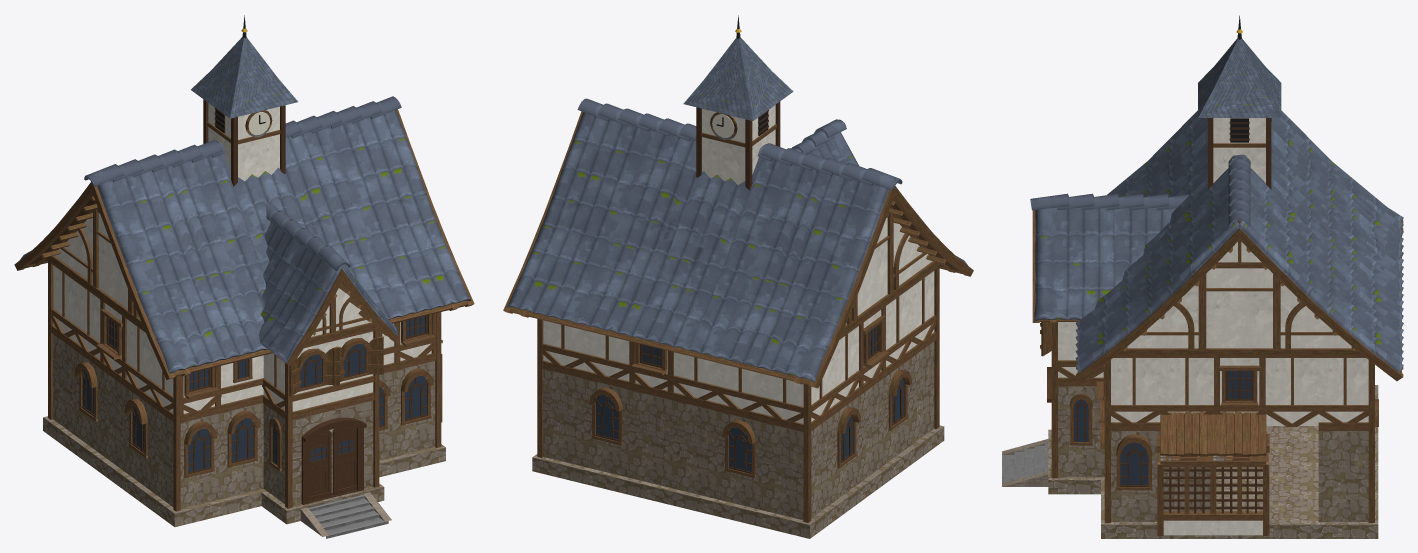
The model's file is library.glb.
3 views of the same model, side by side, from view 1: azimuth 30°, elevation 25°; view 2: azimuth 150°, elevation 25°; view 3: azimuth 270°, elevation 25° (orthographic). The views are drawn at different scales.
Parts seen in each view (by area): view 1: Roof_RoundTiles_8x10.088, Roof_RoundTiles_4x4.085, Plinth.001, Roof_Front_Brick8.089, TurretRoof.122, Wall_UnevenBrick_Door_Round.065, Wall_UnevenBrick_Window_Wide_Round.005, Stairs_Exterior_Straight.087, TurretBody.091, Wall_UnevenBrick_Window_Wide_Round.009, Wall_UnevenBrick_Window_Wide_Round.003, Wall_UnevenBrick_Straight.022 (+39 smaller); view 2: Roof_RoundTiles_8x10.088, Plinth.001, Roof_Front_Brick8.089, TurretRoof.122, Wall_UnevenBrick_Straight.015, Wall_UnevenBrick_Straight.014, Wall_UnevenBrick_Straight.011, Wall_UnevenBrick_Straight.018, Wall_UnevenBrick_Window_Wide_Round.012, Wall_UnevenBrick_Window_Wide_Round.016, TurretBody.091, Wall_UnevenBrick_Straight.022 (+24 smaller); view 3: Roof_RoundTiles_8x10.088, Roof_Front_Brick8.090, Roof_RoundTiles_4x4.085, Plinth.001, Wall_UnevenBrick_Straight.029, TurretRoof.122, Wall_Plaster_Straight+upper.059, Wall_Plaster_Straight+upper.060, Wall_Plaster_WoodGrid+upper.125, Wall_Plaster_Straight+upper.055, Wall_UnevenBrick_Window_Thin_Round.071, Wall_Plaster_WoodGrid+upper.126 (+18 smaller).
Boxes of the visible parts, <box> form: Roof_RoundTiles_8x10.088: <box>14,96,474,379</box>; Roof_RoundTiles_4x4.085: <box>258,204,398,366</box>; Plinth.001: <box>43,416,445,526</box>; Roof_Front_Brick8.089: <box>41,196,144,329</box>; TurretRoof.122: <box>191,37,297,118</box>; Wall_UnevenBrick_Door_Round.065: <box>292,392,374,505</box>; Wall_UnevenBrick_Window_Wide_Round.005: <box>220,394,264,499</box>; Stairs_Exterior_Straight.087: <box>300,492,391,538</box>; TurretBody.091: <box>208,103,279,181</box>; Wall_UnevenBrick_Window_Wide_Round.009: <box>394,353,436,456</box>; Wall_UnevenBrick_Window_Wide_Round.003: <box>180,405,221,508</box>; Wall_UnevenBrick_Straight.022: <box>100,361,126,472</box>; Roof_RoundTiles_8x10.088: <box>503,98,973,388</box>; Plinth.001: <box>532,425,944,538</box>; Roof_Front_Brick8.089: <box>840,200,946,336</box>; TurretRoof.122: <box>683,37,793,120</box>; Wall_UnevenBrick_Straight.015: <box>673,392,718,499</box>; Wall_UnevenBrick_Straight.014: <box>628,382,674,488</box>; Wall_UnevenBrick_Straight.011: <box>542,360,585,466</box>; Wall_UnevenBrick_Straight.018: <box>761,414,803,520</box>; Wall_UnevenBrick_Window_Wide_Round.012: <box>584,370,629,477</box>; Wall_UnevenBrick_Window_Wide_Round.016: <box>717,403,762,510</box>; TurretBody.091: <box>702,105,775,184</box>; Wall_UnevenBrick_Straight.022: <box>858,369,886,483</box>; Roof_RoundTiles_8x10.088: <box>1075,110,1403,381</box>; Roof_Front_Brick8.090: <box>1116,240,1363,355</box>; Roof_RoundTiles_4x4.085: <box>1030,193,1189,322</box>; Plinth.001: <box>1101,385,1378,538</box>; Wall_UnevenBrick_Straight.029: <box>1318,422,1368,521</box>; TurretRoof.122: <box>1198,38,1281,117</box>; Wall_Plaster_Straight+upper.059: <box>1266,356,1318,426</box>; Wall_Plaster_Straight+upper.060: <box>1318,356,1368,423</box>; Wall_Plaster_WoodGrid+upper.125: <box>1160,457,1213,535</box>; Wall_Plaster_Straight+upper.055: <box>1111,356,1160,423</box>; Wall_UnevenBrick_Window_Thin_Round.071: <box>1058,377,1104,477</box>; Wall_Plaster_WoodGrid+upper.126: <box>1213,457,1265,535</box>.
Size of the model in its own units: 14.65 by 19.14 by 15.22.
10 materials, 6 textured.
